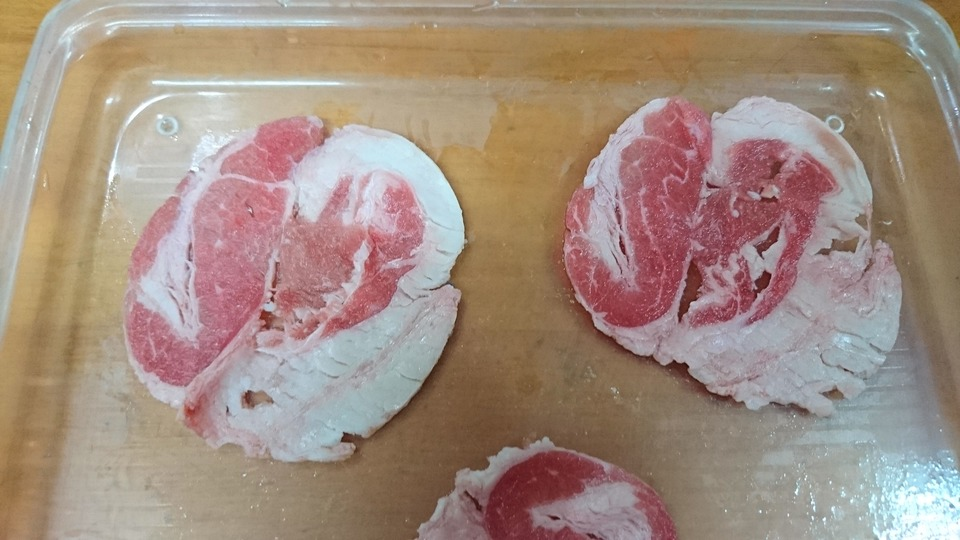restructured meat: (125, 113, 470, 462), (561, 82, 906, 431)
